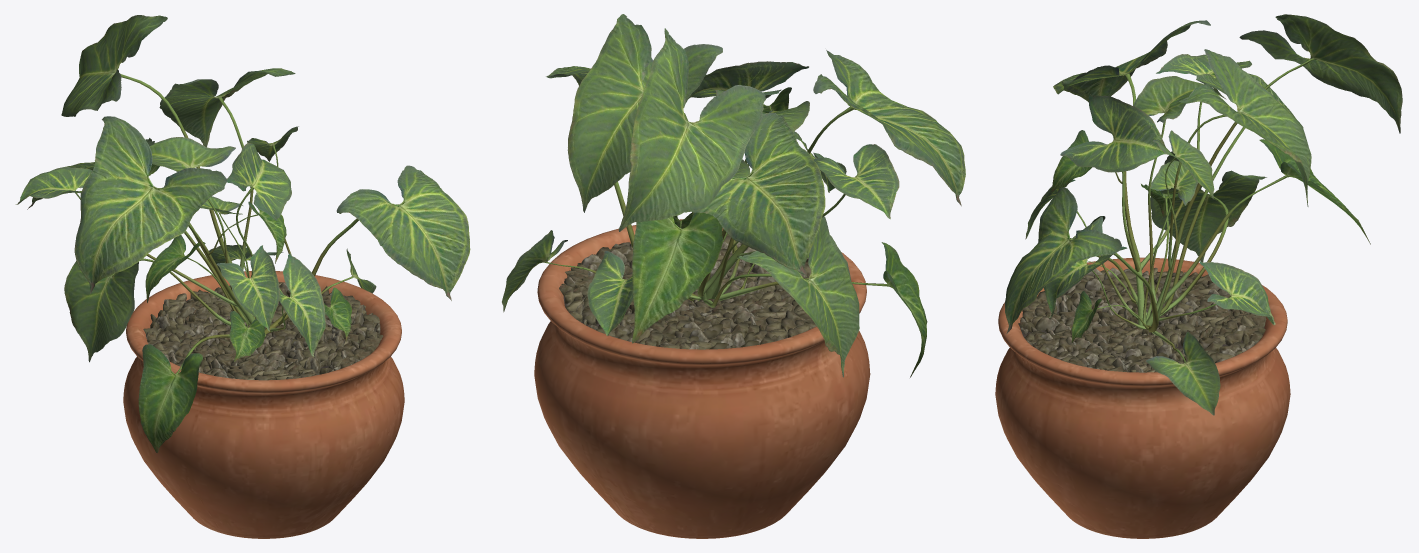
Rendered from potted_plant_02.glb.
The picture shows the model from 3 angles, left to right: view 1: azimuth 30°, elevation 25°; view 2: azimuth 150°, elevation 25°; view 3: azimuth 270°, elevation 25°; orthographic projection. The views are drawn at different scales.
Visible parts, largest first — view 1: potted_plant_02_leaves, potted_plant_02_pot; view 2: potted_plant_02_leaves, potted_plant_02_pot; view 3: potted_plant_02_pot, potted_plant_02_leaves.
Part boxes in pixels (left/top/right/bottom): potted_plant_02_leaves: left=15, top=15, right=470, bottom=452; potted_plant_02_pot: left=123, top=271, right=404, bottom=538; potted_plant_02_leaves: left=502, top=14, right=965, bottom=377; potted_plant_02_pot: left=534, top=219, right=870, bottom=538; potted_plant_02_pot: left=995, top=257, right=1290, bottom=538; potted_plant_02_leaves: left=1005, top=14, right=1402, bottom=415.
Size of the model in its own units: 0.7009 by 0.8412 by 0.6574.
Materials: 2 (2 with a texture image).
